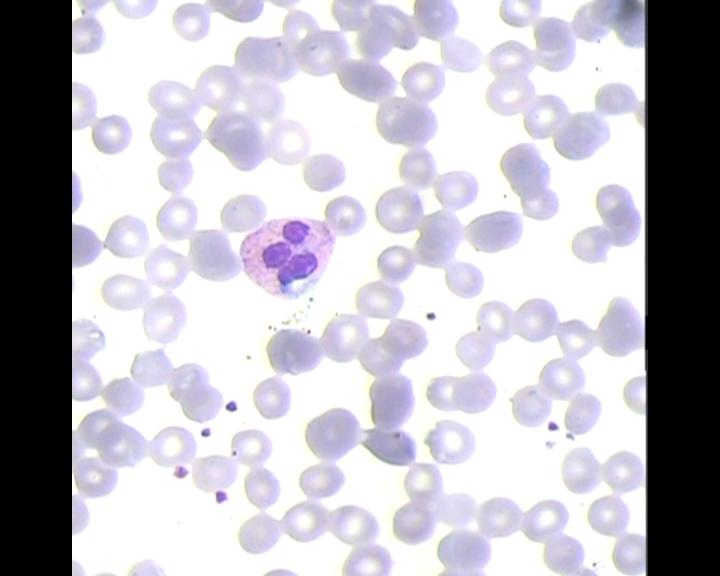neut: (237, 216, 340, 300)
